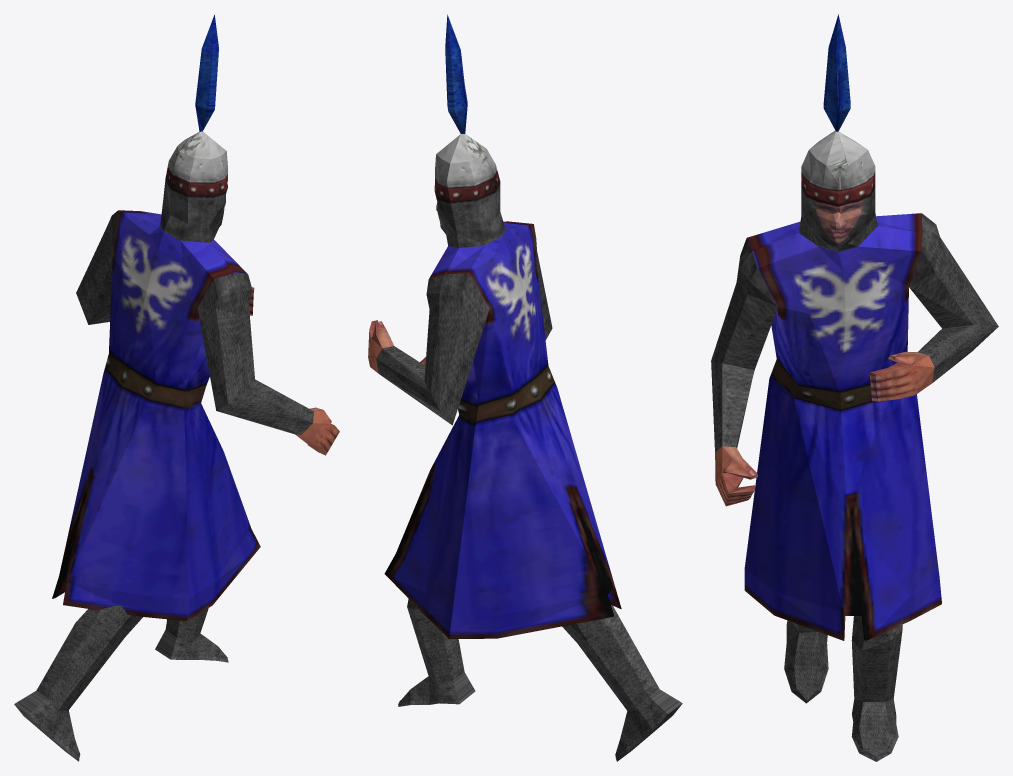
File: guard_run8.obj
The picture shows the model from 3 angles, left to right: view 1: azimuth 30°, elevation 25°; view 2: azimuth 150°, elevation 25°; view 3: azimuth 270°, elevation 25°; orthographic projection. The views are drawn at different scales.
Parts seen in each view (by area): view 1: Object_1; view 2: Object_1; view 3: Object_1.
Boxes of the visible parts, x1=… form: Object_1: x1=14, y1=15, x2=339, y2=761; Object_1: x1=368, y1=14, x2=682, y2=761; Object_1: x1=711, y1=14, x2=998, y2=761.
Bounding box in the file's own units: 0.9353 × 2.21 × 0.7497.
1 material, 1 textured.
